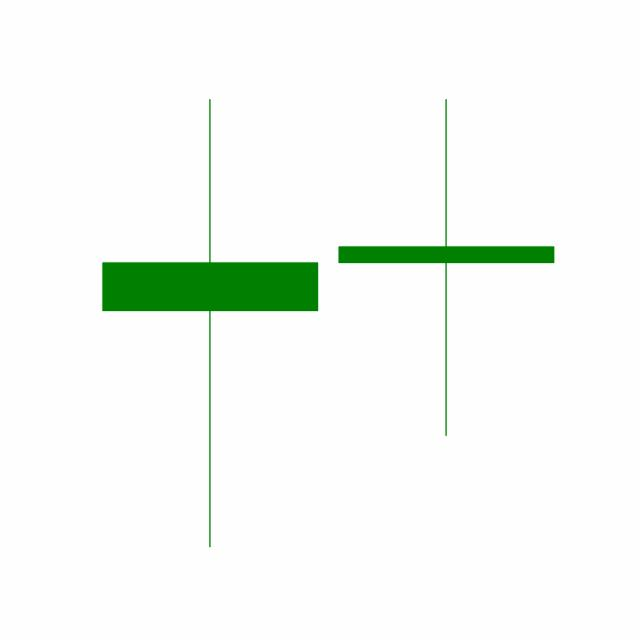Spinning Top: (327, 95, 565, 440)
